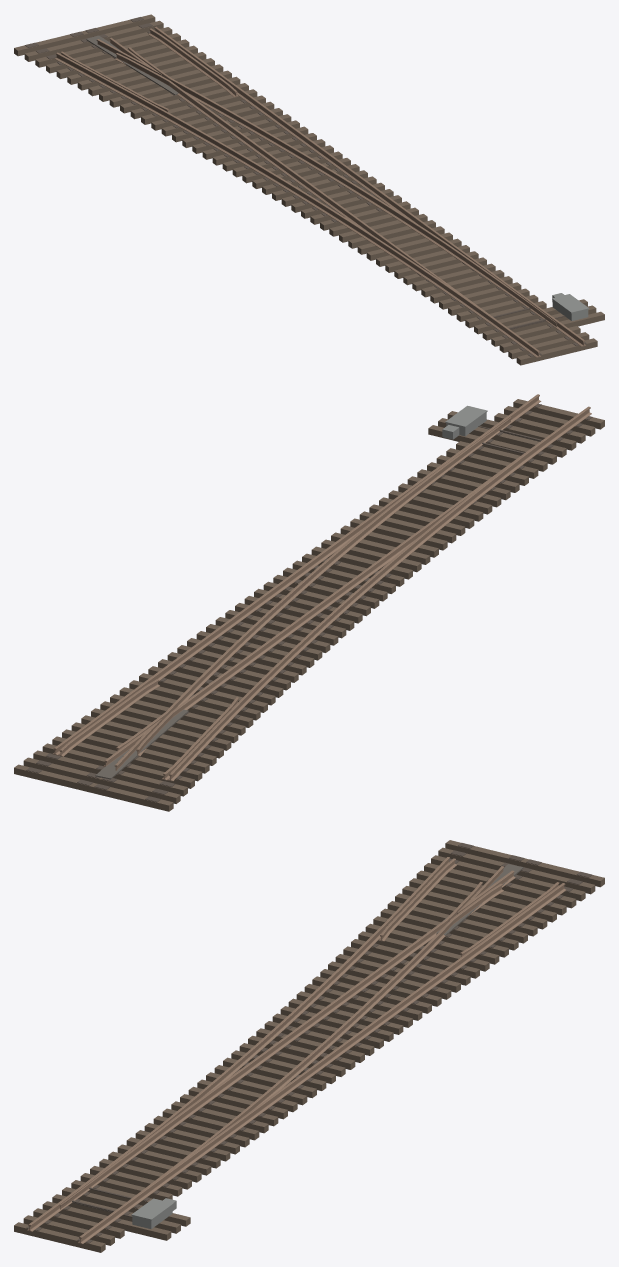
File: turnout_8_l.glb
3 renders of one model, top to bottom at view 1: azimuth 30°, elevation 25°; view 2: azimuth 150°, elevation 25°; view 3: azimuth 330°, elevation 25°, orthographic. The views are drawn at different scales.
Visible parts, largest first — view 1: Timbers, Closures, StockCurved, StockStraight, Plates, Guards, BladeCurved, Machine, FrogCasting, Frog; view 2: Timbers, Closures, StockCurved, StockStraight, Plates, Guards, BladeCurved, Machine, FrogCasting, Frog; view 3: Timbers, Closures, StockStraight, Plates, StockCurved, Guards, BladeStraight, Machine.
Boxes of the visible parts, bbox=[...] form: Timbers: bbox=[14, 14, 604, 365]; Closures: bbox=[115, 47, 444, 254]; StockCurved: bbox=[55, 52, 540, 357]; StockStraight: bbox=[154, 26, 585, 346]; Plates: bbox=[25, 17, 586, 356]; Guards: bbox=[60, 28, 238, 111]; BladeCurved: bbox=[441, 242, 557, 327]; Machine: bbox=[552, 293, 589, 320]; FrogCasting: bbox=[86, 35, 178, 95]; Frog: bbox=[96, 37, 161, 75]; Timbers: bbox=[14, 399, 604, 811]; Closures: bbox=[116, 507, 437, 756]; StockCurved: bbox=[167, 406, 591, 781]; StockStraight: bbox=[52, 394, 541, 755]; Plates: bbox=[26, 403, 592, 802]; Guards: bbox=[58, 679, 238, 780]; BladeCurved: bbox=[389, 417, 511, 514]; Machine: bbox=[442, 405, 487, 439]; FrogCasting: bbox=[95, 709, 188, 779]; Frog: bbox=[103, 719, 161, 770]; Timbers: bbox=[14, 840, 604, 1252]; Closures: bbox=[181, 882, 503, 1126]; StockStraight: bbox=[78, 883, 566, 1244]; Plates: bbox=[26, 843, 592, 1243]; StockCurved: bbox=[27, 857, 449, 1231]; Guards: bbox=[378, 858, 559, 958]; BladeStraight: bbox=[59, 1113, 184, 1209]; Machine: bbox=[131, 1198, 176, 1228].
Size of the model in its own units: 5.71 by 0.4678 by 26.1.
